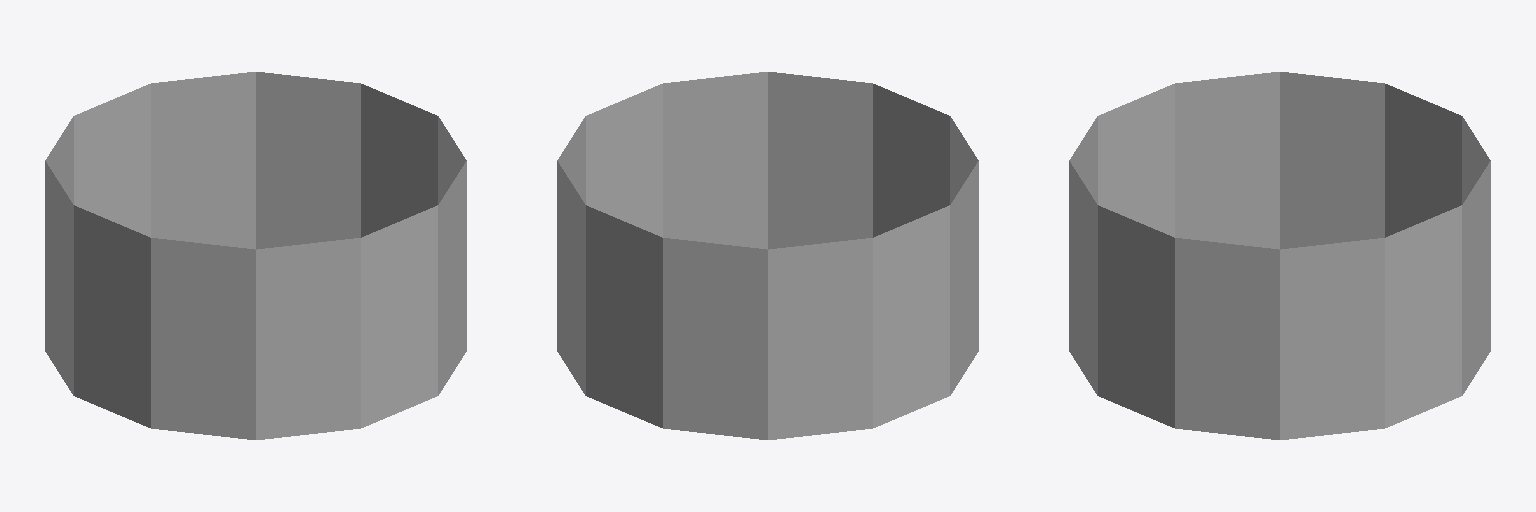
Rendered from plateau.obj.
3 views of the same model, side by side, from view 1: azimuth 30°, elevation 25°; view 2: azimuth 150°, elevation 25°; view 3: azimuth 270°, elevation 25° (orthographic).
Size of the model in its own units: 2 by 1 by 2.